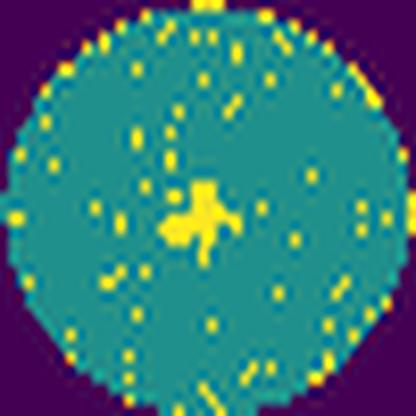Center: (160, 183, 243, 268)
